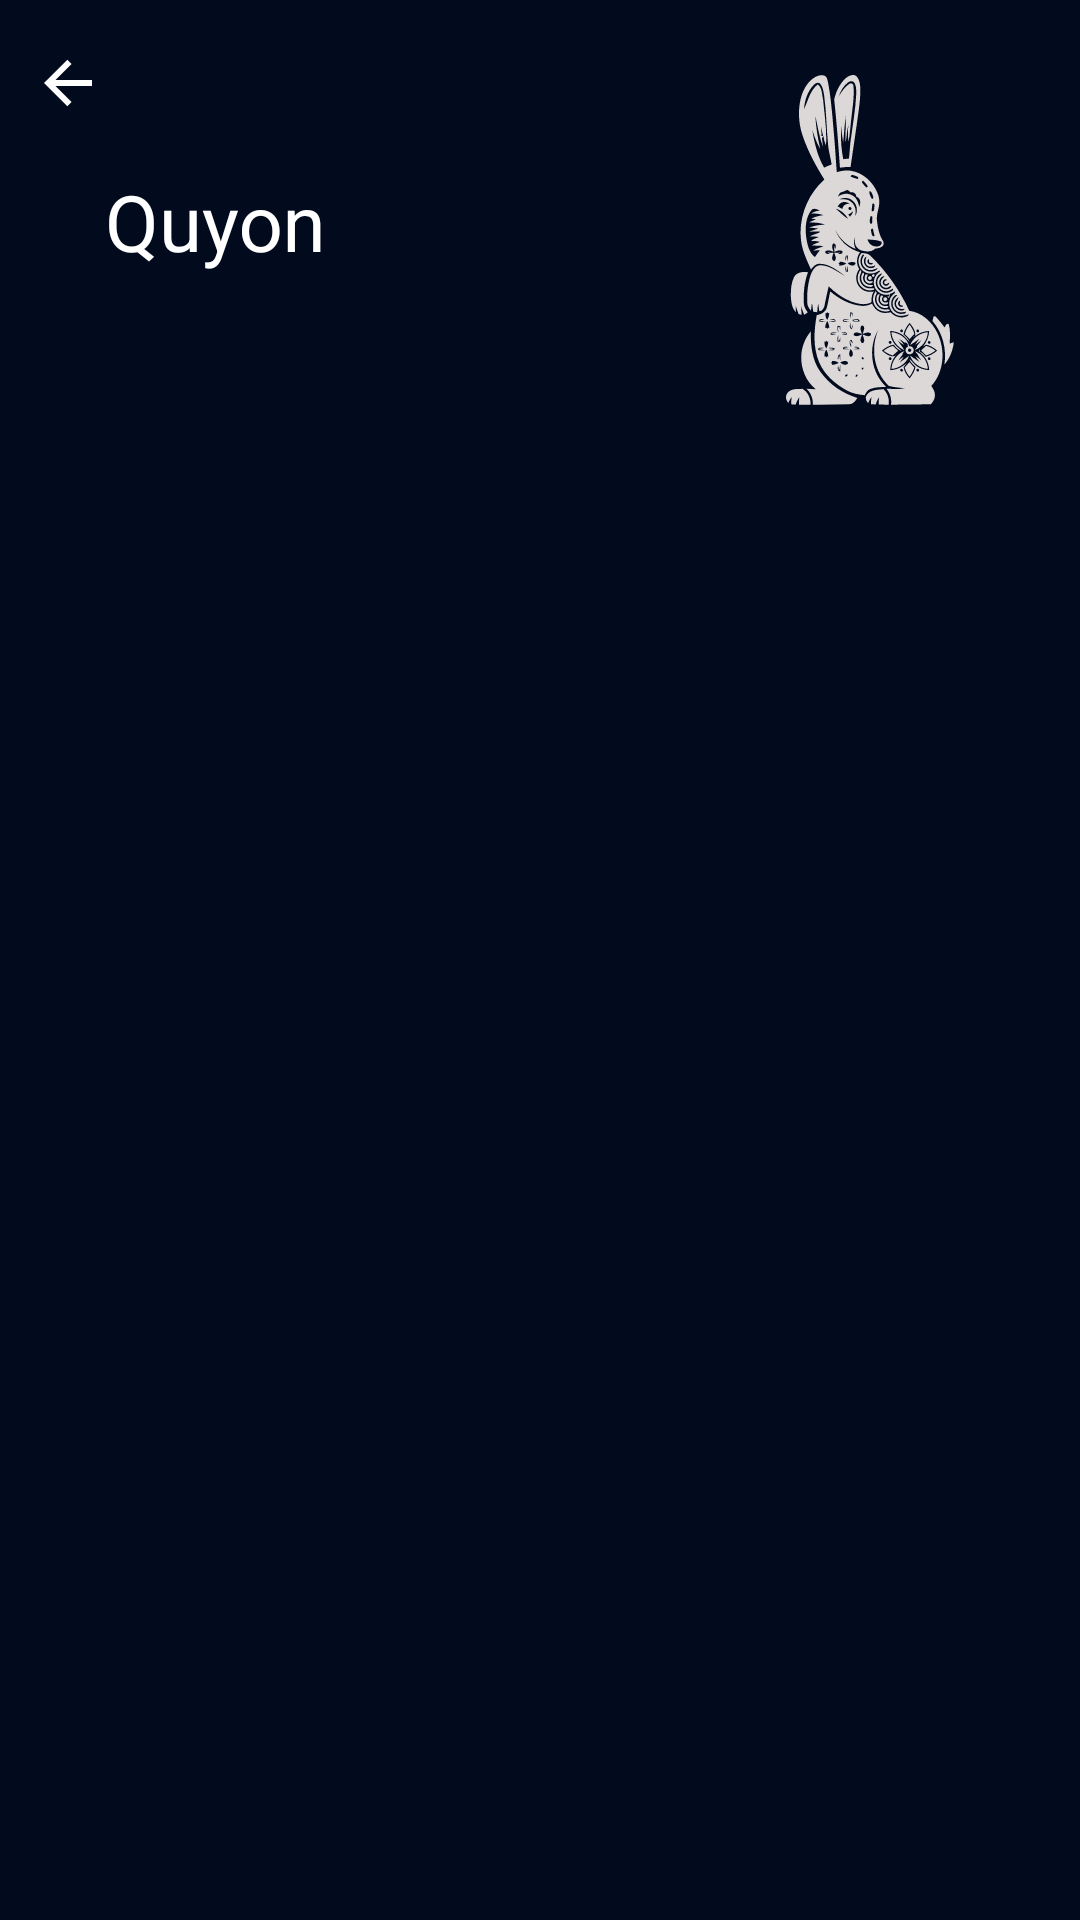

Where to tap for icons on this 1080*1920 app screen, as (x=x, y=y):
about rabbit: (x=870, y=240)
back: (x=68, y=83)
